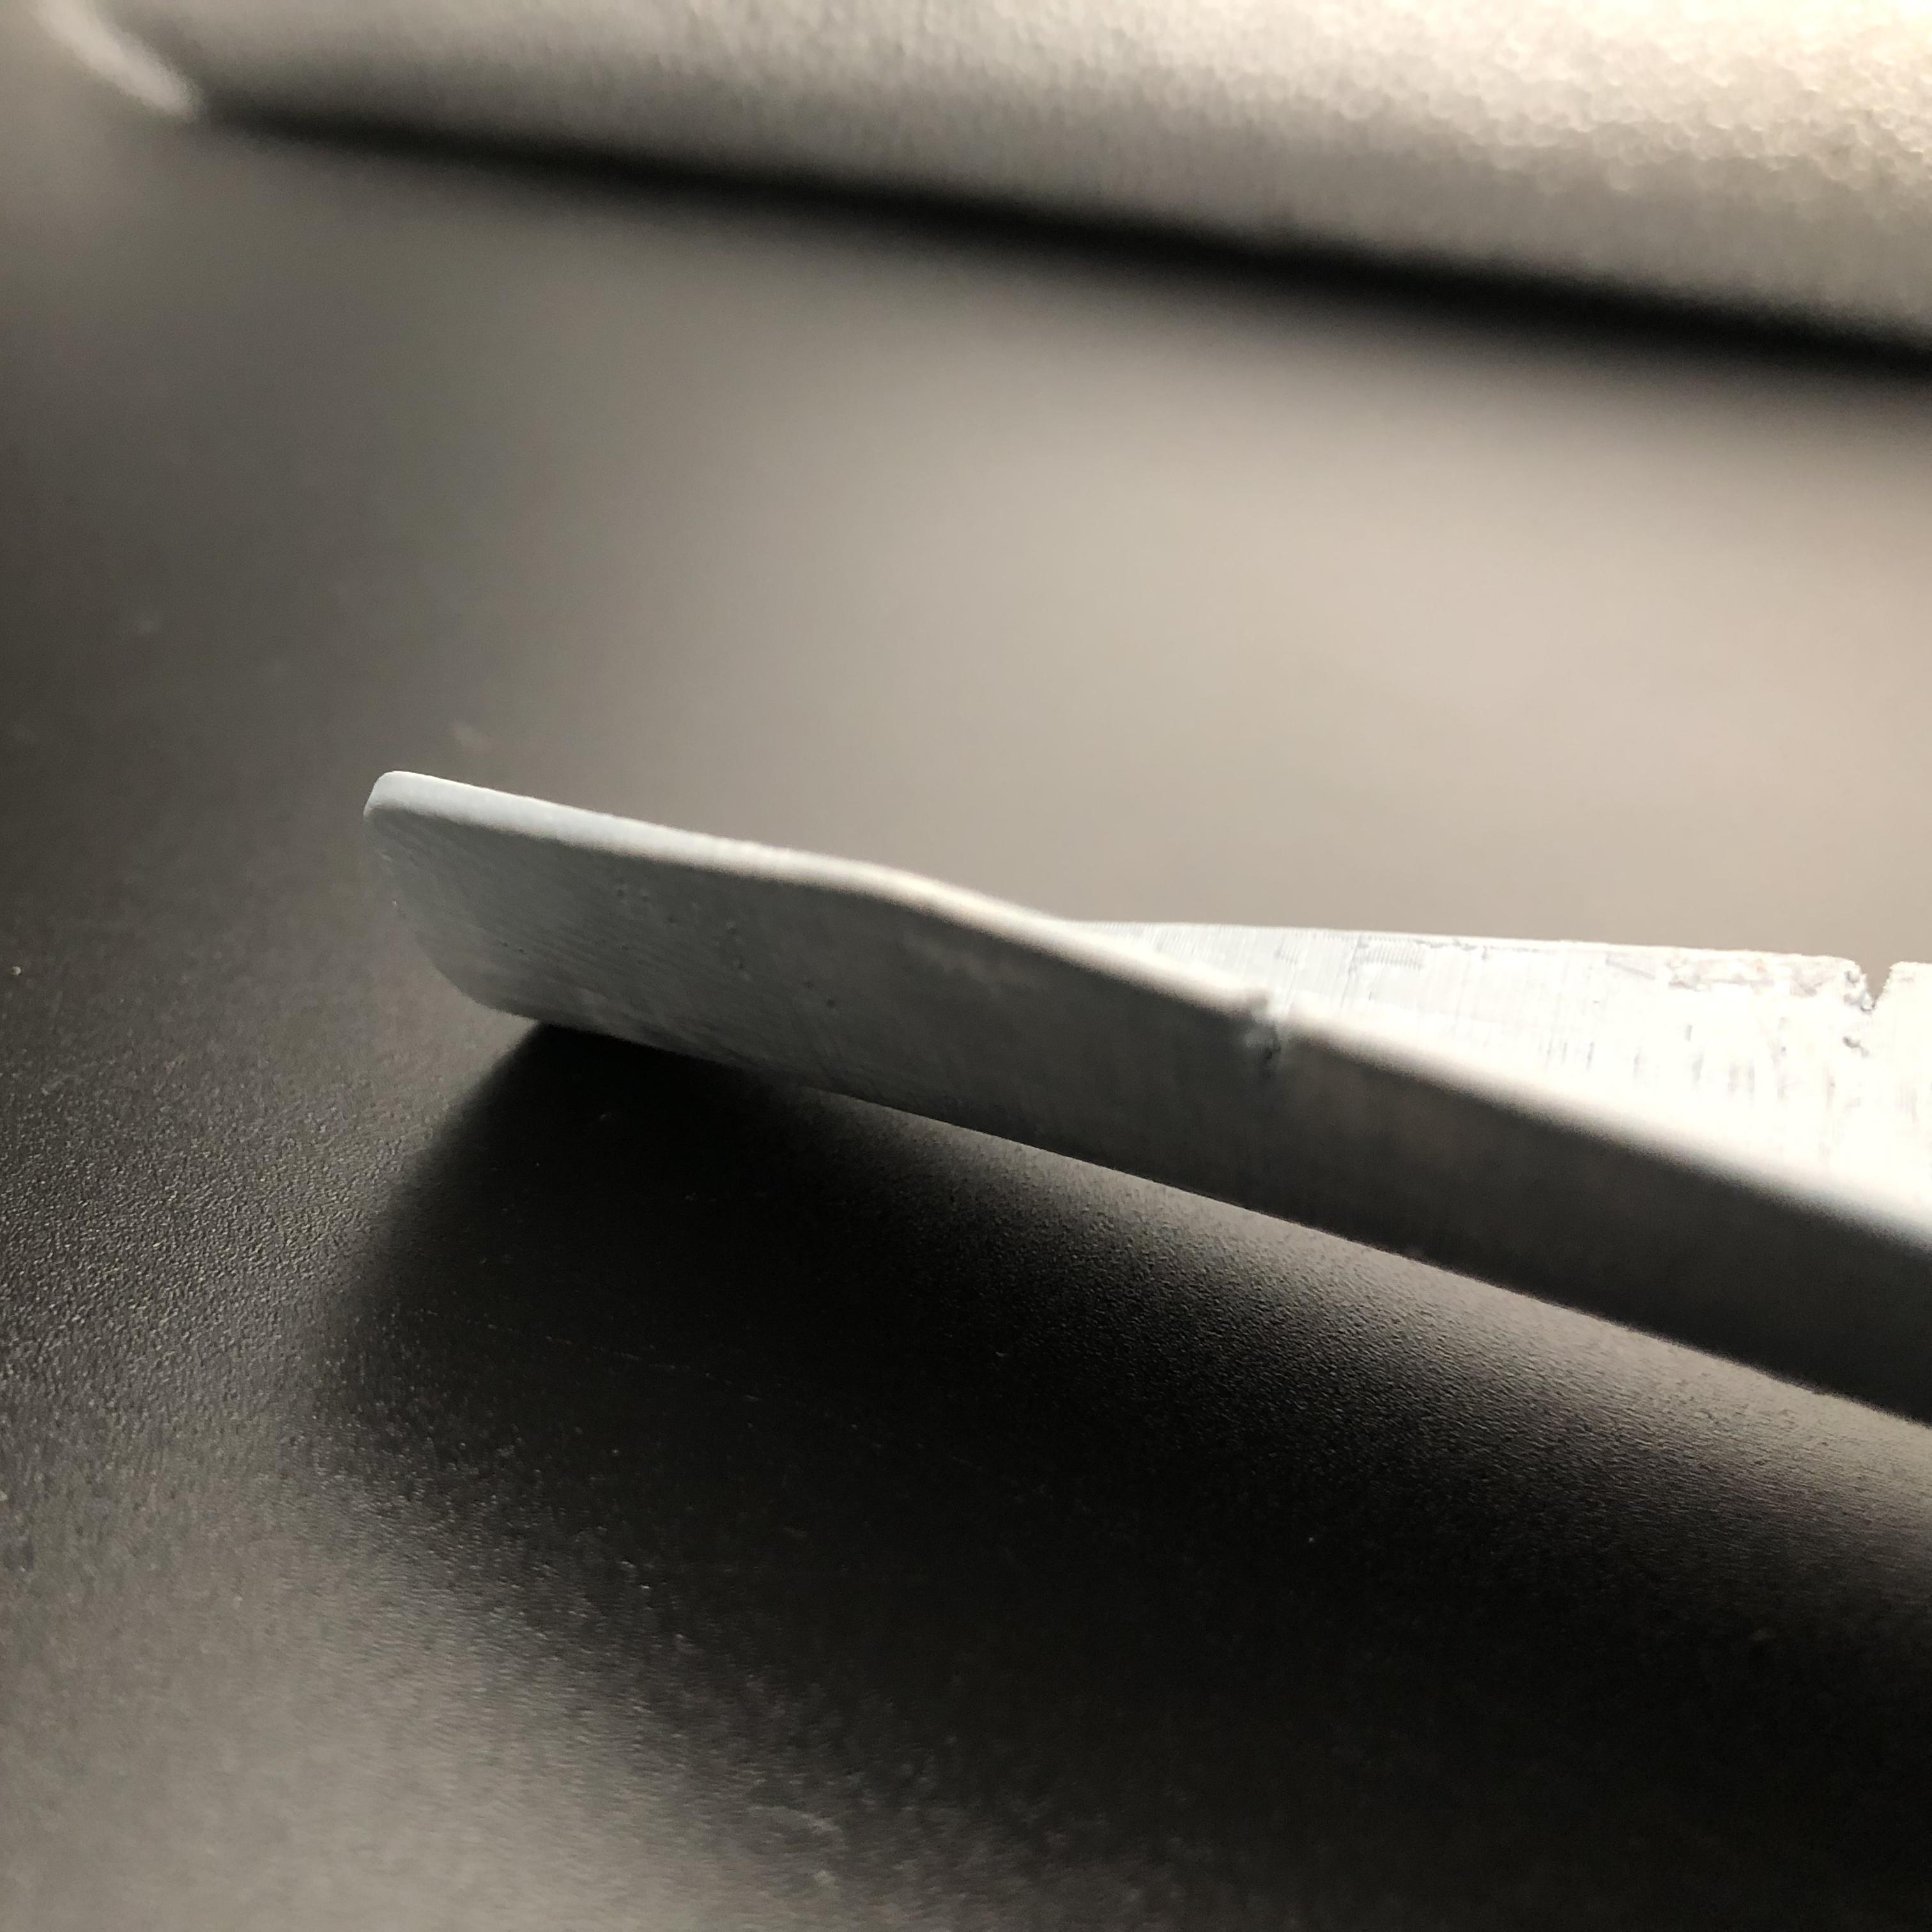groove: (1231, 982, 1318, 1077), (1828, 954, 1920, 1026)
